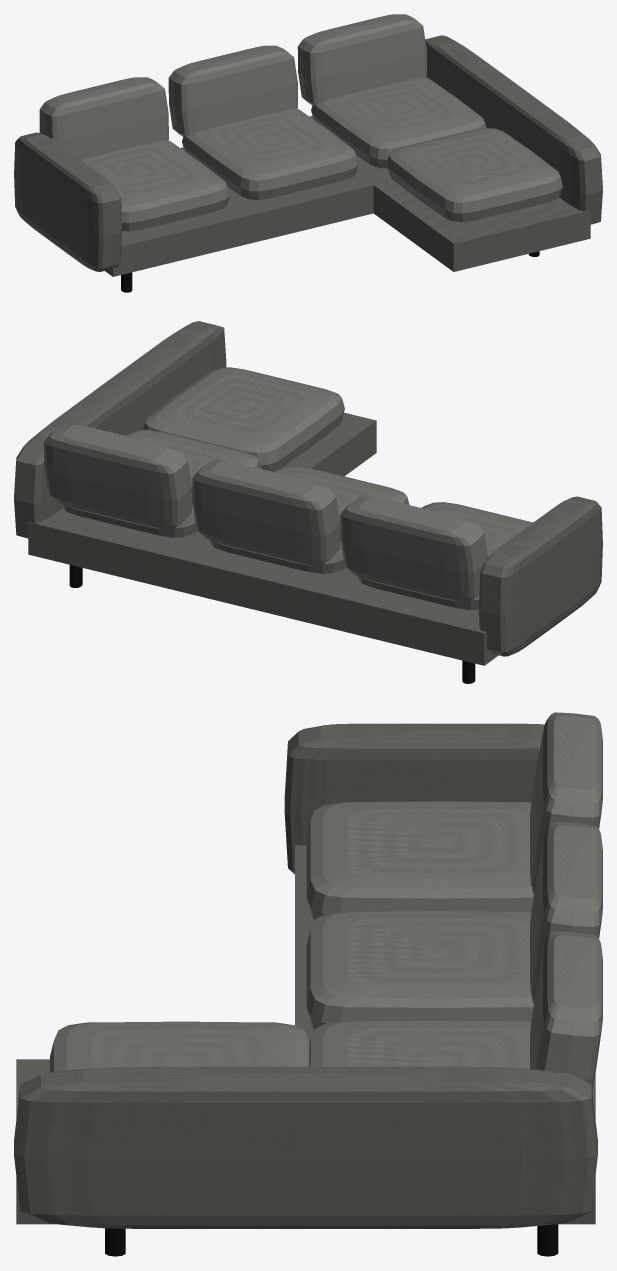
File: sofa-corner_lod2.glb
3 views of the same model, one above another, from view 1: azimuth 30°, elevation 25°; view 2: azimuth 150°, elevation 25°; view 3: azimuth 270°, elevation 25° (orthographic). The views are drawn at different scales.
Visible parts, largest first — view 1: chaise_seat, base_main, arm_right_chaise, seat_2, base_chaise, arm_left, seat_3, back_2, back_3, seat_1, back_1; view 2: base_main, arm_left, chaise_seat, back_3, back_2, arm_right_chaise, back_1, base_chaise, seat_2, seat_3, seat_1; view 3: arm_right_chaise, seat_1, seat_2, arm_left, chaise_seat, seat_3, back_3, back_2, back_1, base_main, base_chaise.
Boxes of the visible parts, bbox=[...] form: chaise_seat: bbox=[386, 128, 562, 222]; base_main: bbox=[105, 147, 392, 276]; arm_right_chaise: bbox=[425, 35, 602, 224]; seat_2: bbox=[182, 108, 358, 199]; base_chaise: bbox=[309, 116, 590, 271]; arm_left: bbox=[14, 132, 121, 271]; seat_3: bbox=[311, 77, 486, 168]; back_2: bbox=[168, 45, 297, 136]; back_3: bbox=[297, 14, 426, 104]; seat_1: bbox=[81, 140, 229, 231]; back_1: bbox=[39, 77, 168, 159]; base_main: bbox=[29, 522, 498, 665]; arm_left: bbox=[479, 496, 602, 656]; chaise_seat: bbox=[143, 367, 344, 471]; back_3: bbox=[44, 424, 192, 529]; back_2: bbox=[192, 460, 340, 565]; arm_right_chaise: bbox=[14, 321, 226, 538]; back_1: bbox=[340, 496, 488, 601]; base_chaise: bbox=[28, 412, 376, 592]; seat_2: bbox=[209, 466, 409, 573]; seat_3: bbox=[61, 429, 261, 537]; seat_1: bbox=[357, 502, 532, 610]; arm_right_chaise: bbox=[14, 1066, 597, 1228]; seat_1: bbox=[306, 801, 533, 920]; seat_2: bbox=[306, 910, 533, 1030]; arm_left: bbox=[284, 723, 544, 874]; chaise_seat: bbox=[50, 1021, 309, 1071]; seat_3: bbox=[309, 1020, 531, 1068]; back_3: bbox=[530, 931, 602, 1089]; back_2: bbox=[530, 822, 602, 1002]; back_1: bbox=[530, 712, 602, 893]; base_main: bbox=[295, 845, 313, 1042]; base_chaise: bbox=[16, 1059, 595, 1224].
Size of the model in its own units: 2.8 by 0.88 by 1.9.
3 materials, 3 textured.
